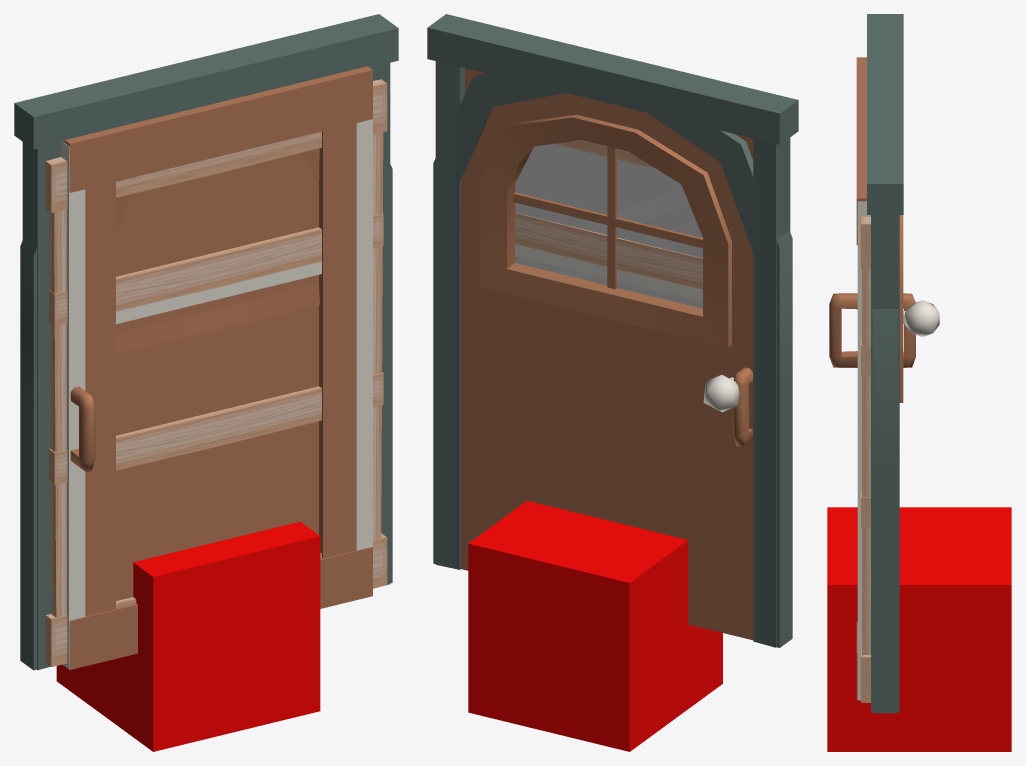
The model's file is Door_Prefab (1).fbx.
The picture shows the model from 3 angles, left to right: view 1: azimuth 30°, elevation 25°; view 2: azimuth 150°, elevation 25°; view 3: azimuth 270°, elevation 25°; orthographic projection. The views are drawn at different scales.
Visible parts, largest first — view 1: Door, Entry_Exit_Zone, BarnDoorFrame, Door_Frame, GlassDoor, ArchDoorFrame, ArchDoor; view 2: ArchDoor, Entry_Exit_Zone, Door_Frame, ArchDoorFrame, BarnDoorFrame, GlassDoor; view 3: Entry_Exit_Zone, Door_Frame, ArchDoorFrame, BarnDoorFrame, GlassDoor, ArchDoor, Door.
Boxes of the visible parts, left/top/right/bottom form: Door: left=64, top=66, right=372, bottom=669; Entry_Exit_Zone: left=56, top=521, right=320, bottom=751; BarnDoorFrame: left=45, top=79, right=387, bottom=666; Door_Frame: left=14, top=14, right=398, bottom=670; GlassDoor: left=61, top=119, right=372, bottom=669; ArchDoorFrame: left=20, top=164, right=392, bottom=670; ArchDoor: left=116, top=148, right=319, bottom=354; ArchDoor: left=461, top=93, right=753, bottom=640; Entry_Exit_Zone: left=468, top=500, right=722, bottom=751; Door_Frame: left=427, top=14, right=798, bottom=647; ArchDoorFrame: left=433, top=73, right=792, bottom=647; BarnDoorFrame: left=515, top=140, right=702, bottom=289; GlassDoor: left=515, top=243, right=752, bottom=447; Entry_Exit_Zone: left=827, top=507, right=1011, bottom=751; Door_Frame: left=867, top=14, right=903, bottom=711; ArchDoorFrame: left=872, top=309, right=898, bottom=713; BarnDoorFrame: left=860, top=216, right=870, bottom=702; GlassDoor: left=829, top=201, right=915, bottom=700; ArchDoor: left=899, top=215, right=939, bottom=402; Door: left=856, top=57, right=866, bottom=700.
Bounding box in the file's own units: 2.18 × 3.68 × 1.
